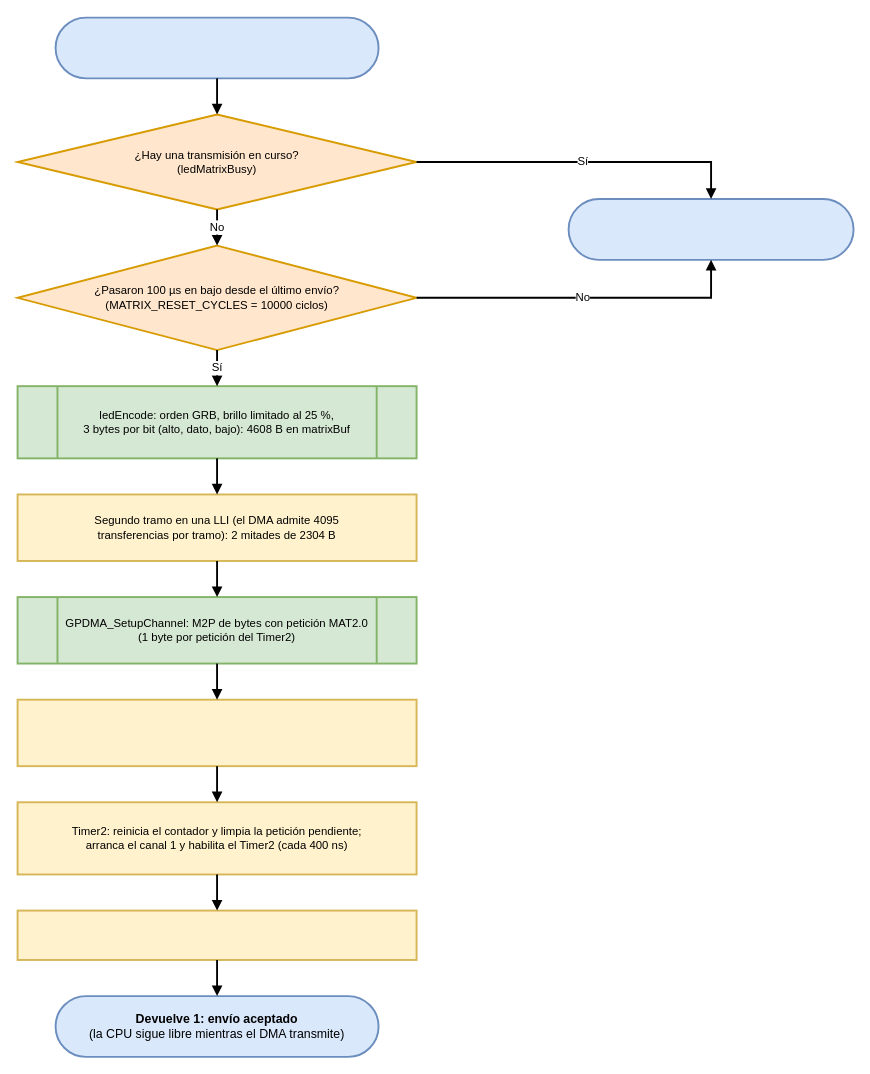
Some shapes in this 870 by 1074 pixel diagram are drawn without their labels. The box of each missing label's shape, as (x1, y1, x2, y2) in pixels:
Corrige el destino: DMACCDestAddr = FIOPIN0 (el driver lo apunta a MR0): (16, 698, 417, 767)
Devuelve 0 (el cuadro se reintenta después): (567, 198, 854, 260)
ledMatrixSend(superficie) Transmisión por Timer2 + GPDMA canal 1: (54, 16, 379, 79)
transmitting = 1: (16, 909, 417, 960)
